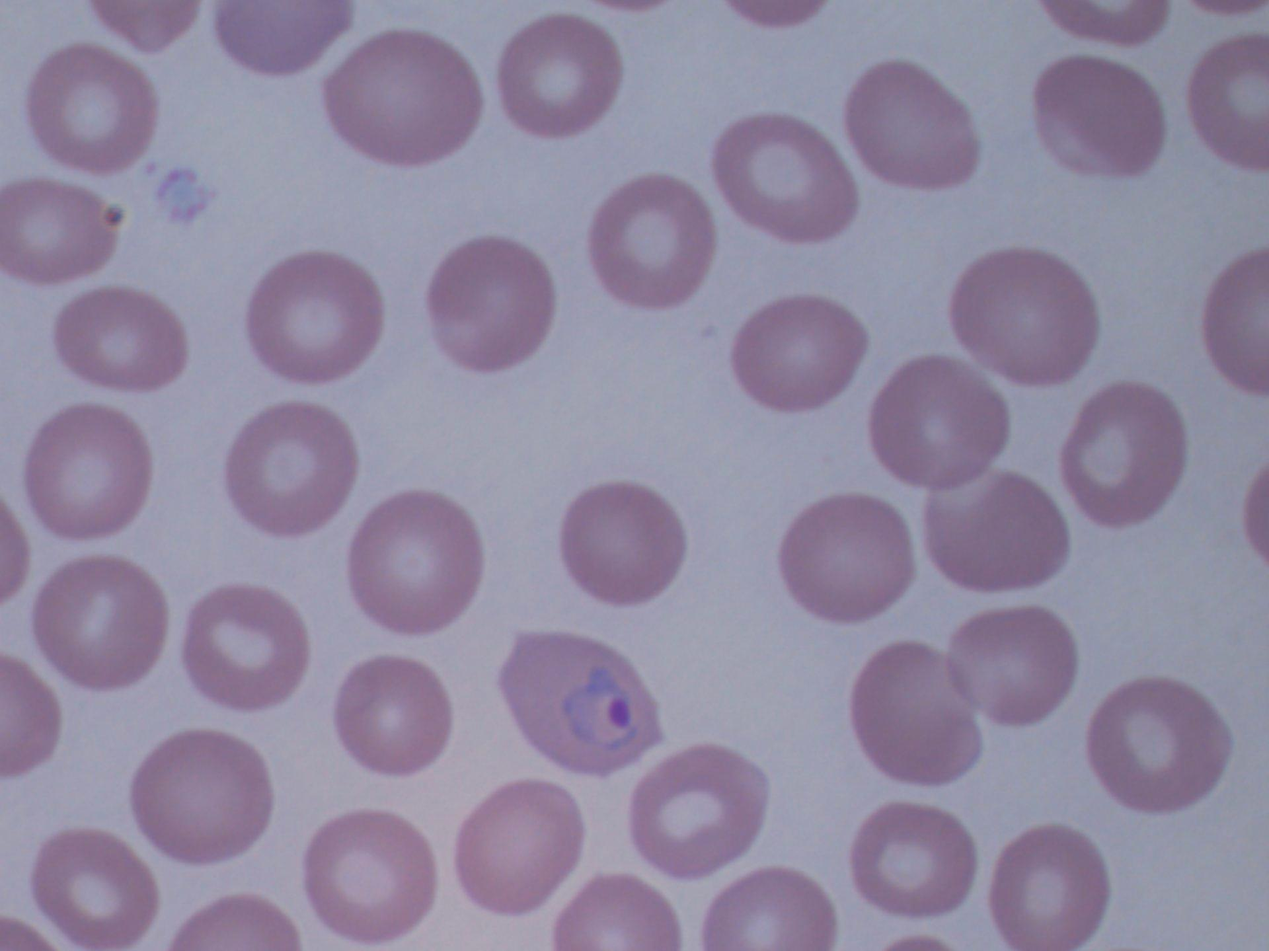Infected: (499, 628, 662, 775)
Uninfected: (321, 28, 483, 168), (1089, 674, 1234, 815), (129, 729, 277, 867), (953, 247, 1099, 384), (849, 638, 985, 785), (347, 488, 483, 635), (625, 744, 770, 877), (869, 356, 1013, 489), (714, 113, 861, 243), (33, 557, 173, 693), (1061, 382, 1188, 528), (304, 807, 440, 942), (841, 58, 979, 190), (780, 494, 917, 623), (588, 174, 717, 310), (228, 399, 356, 536), (26, 403, 153, 540), (248, 253, 381, 383), (454, 783, 585, 914), (25, 45, 158, 173), (730, 293, 873, 412), (920, 475, 1069, 589), (430, 235, 552, 374), (182, 584, 309, 712), (947, 603, 1077, 725), (558, 481, 685, 605), (1036, 55, 1164, 178), (499, 14, 623, 137), (31, 827, 163, 938), (990, 825, 1106, 951), (853, 802, 978, 918), (51, 286, 187, 392), (335, 653, 454, 773), (0, 180, 118, 283), (699, 863, 836, 951), (554, 876, 683, 951)
